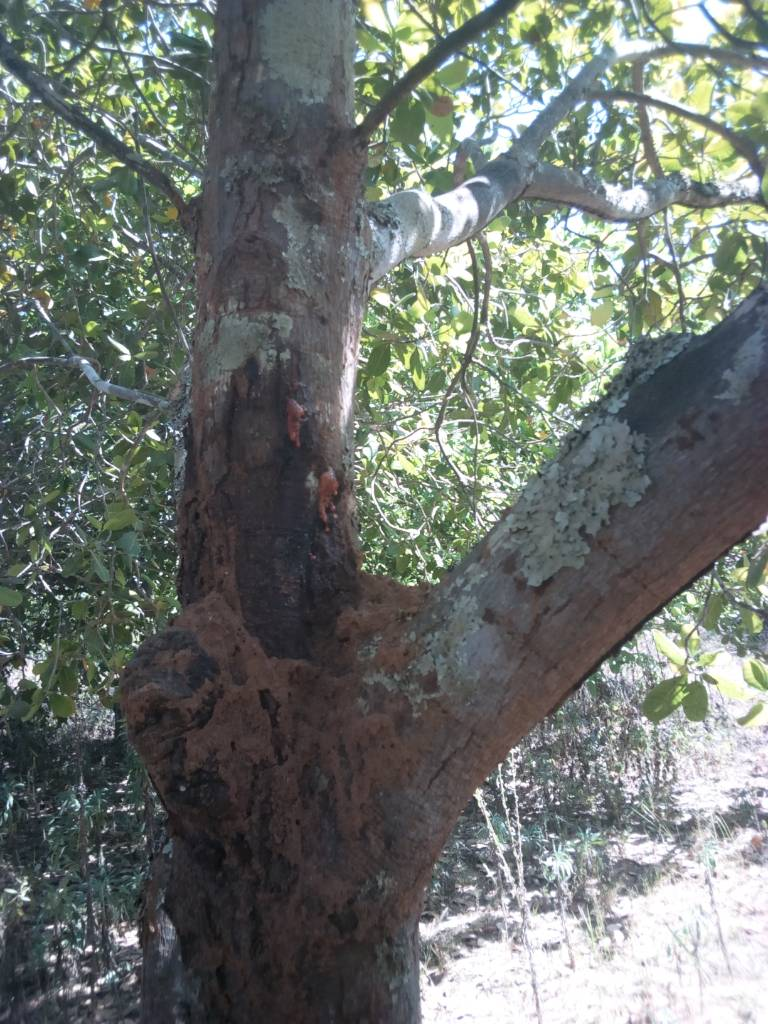Termites: (143, 594, 396, 1013)
